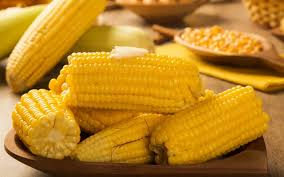milho: (2, 39, 273, 168)
